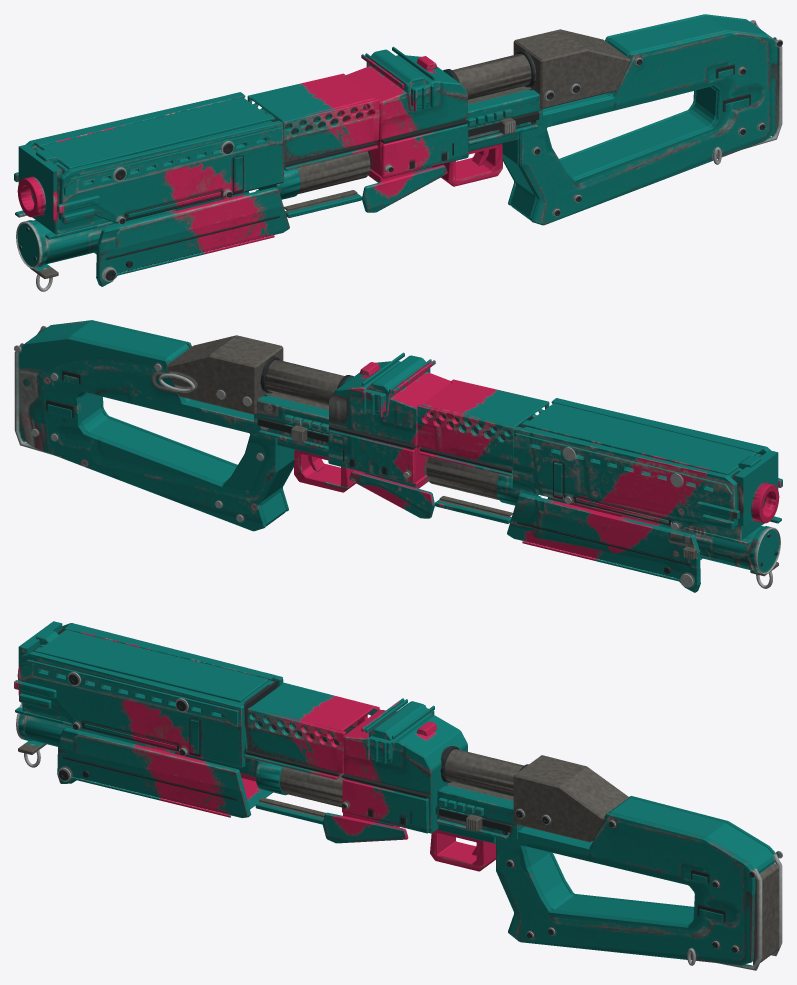
Rendered from WEAPON_CYBERPUNK.glb.
The picture shows the model from 3 angles, top to bottom: view 1: azimuth 30°, elevation 25°; view 2: azimuth 150°, elevation 25°; view 3: azimuth 330°, elevation 25°; orthographic projection.
Parts seen in each view (by area): view 1: SG_LowPoly_Asset; view 2: SG_LowPoly_Asset; view 3: SG_LowPoly_Asset.
Boxes of the visible parts, x1=… form: SG_LowPoly_Asset: x1=14, y1=14, x2=782, y2=291; SG_LowPoly_Asset: x1=14, y1=320, x2=782, y2=592; SG_LowPoly_Asset: x1=14, y1=621, x2=782, y2=970.
Bounding box in the file's own units: 1.83 × 0.4352 × 0.2143.
Materials: 1 (1 with a texture image).
